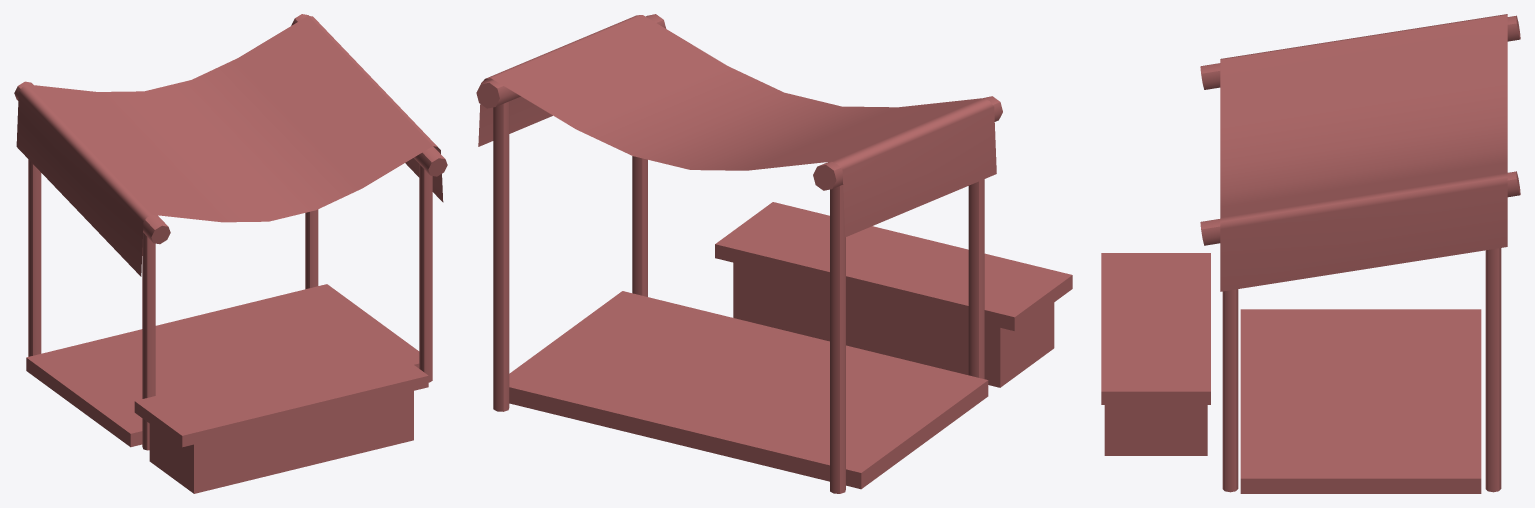
File: Сanopy.fbx
3 views of the same model, side by side, from view 1: azimuth 30°, elevation 25°; view 2: azimuth 150°, elevation 25°; view 3: azimuth 270°, elevation 25° (orthographic). The views are drawn at different scales.
Parts seen in each view (by area): view 1: Сanopy_1; view 2: Сanopy_1; view 3: Сanopy_1.
Part boxes in pixels (x1=…): Сanopy_1: x1=14, y1=14, x2=447, y2=493; Сanopy_1: x1=476, y1=14, x2=1072, y2=493; Сanopy_1: x1=1101, y1=14, x2=1520, y2=493.
Size of the model in its own units: 297 by 254 by 300.
